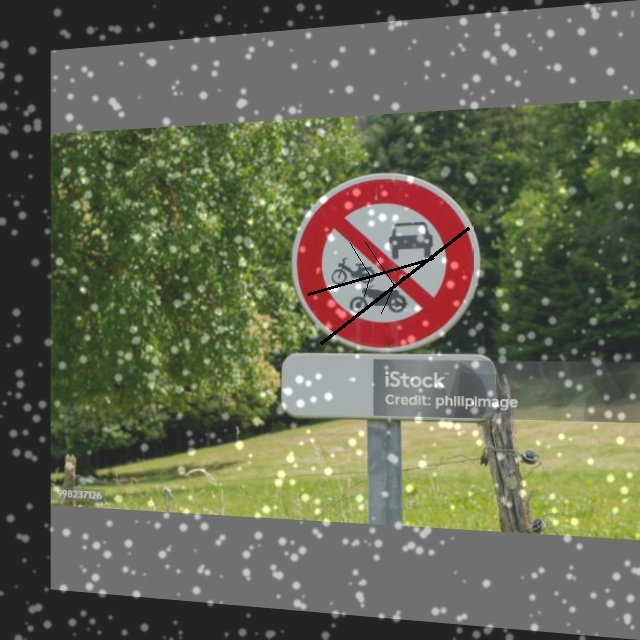All_Motor_Vehicles_Prohibited: (291, 167, 475, 353)
